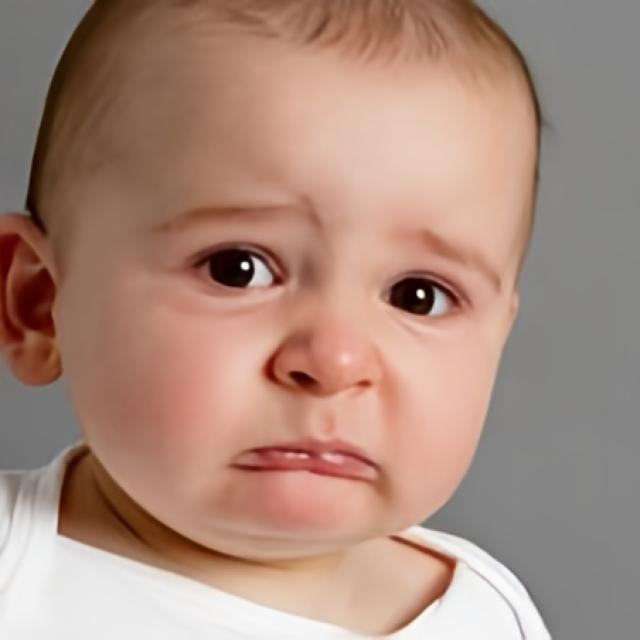sad: (87, 24, 506, 551)
